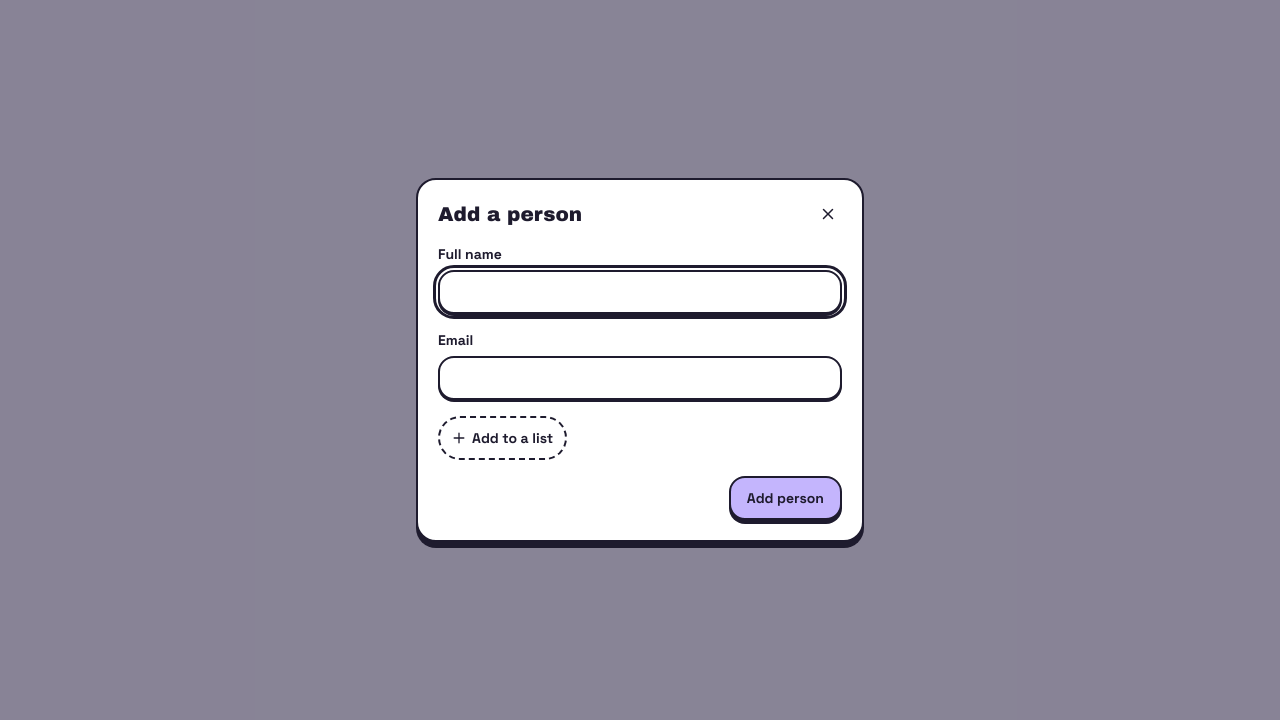
AddContactDialog › adds one person through the import route with their lists
Type "Amira" into the field labelled "Full name" at (640, 292), box x1=438 y1=270 x2=842 y2=314
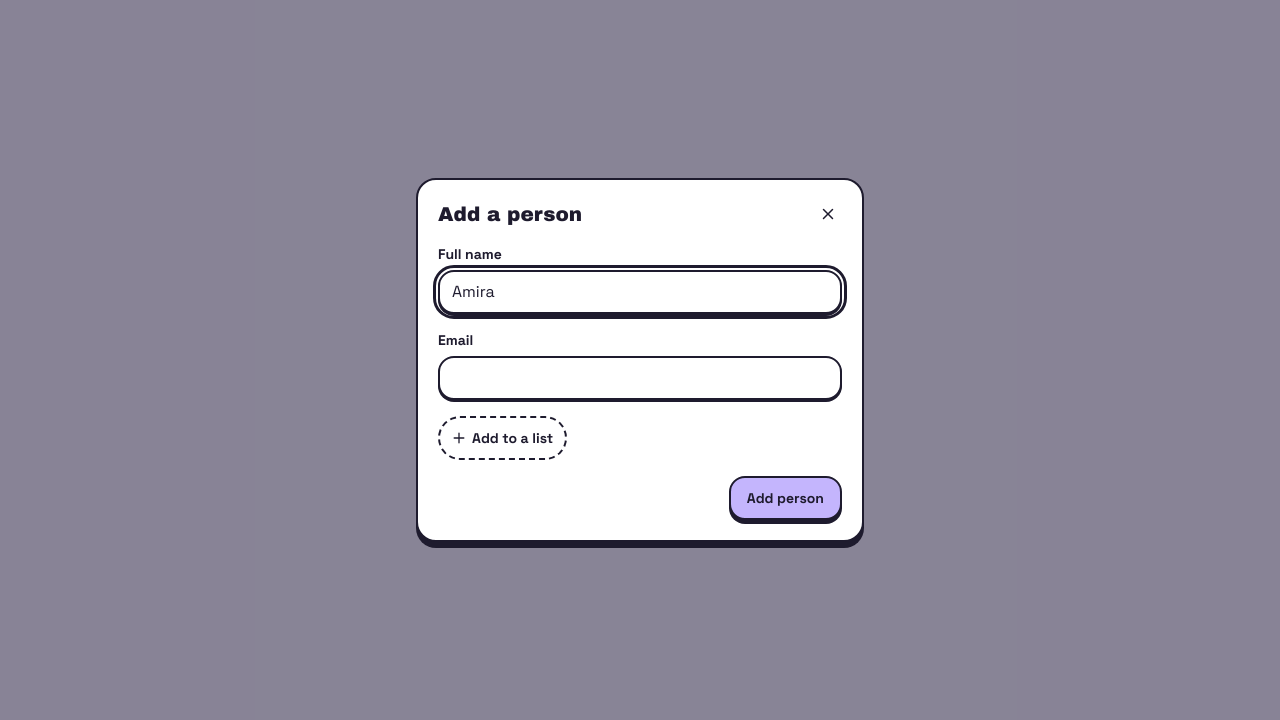
Type "Amira@Example.com" into the field labelled "Email" at (640, 378), box x1=438 y1=356 x2=842 y2=400
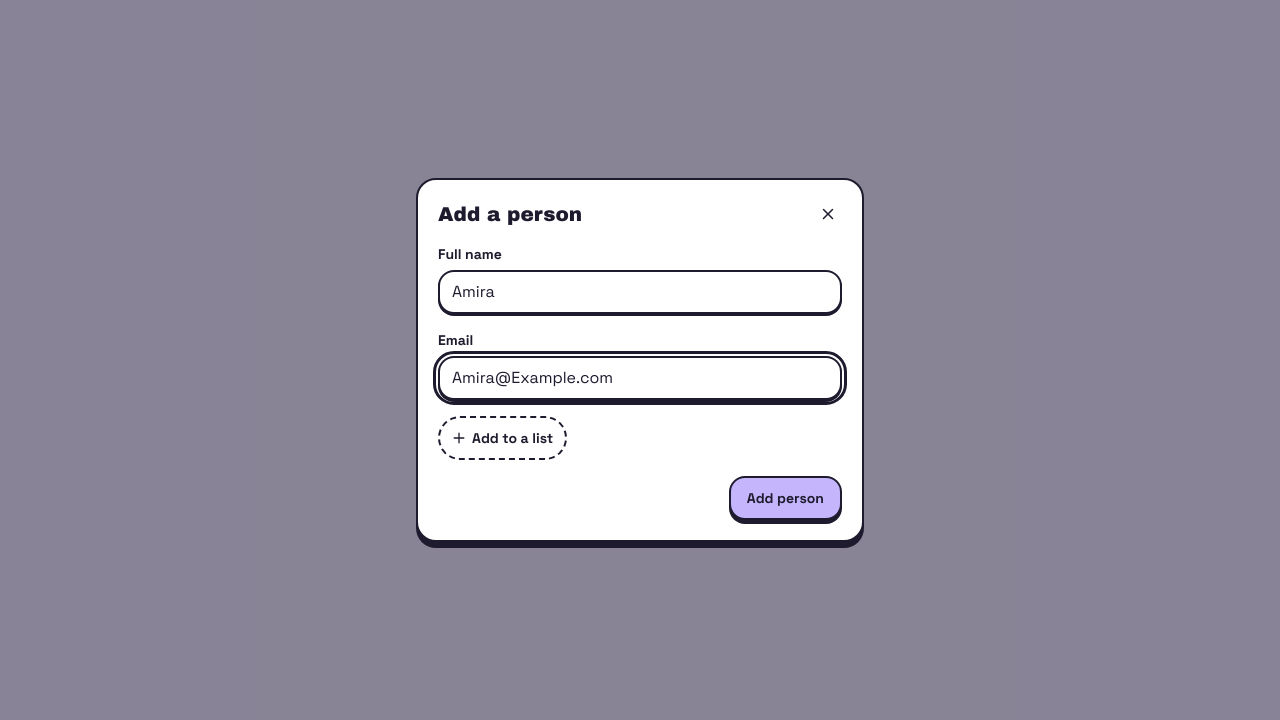
Click the button "Add to a list" at (503, 438), box x1=438 y1=416 x2=567 y2=460
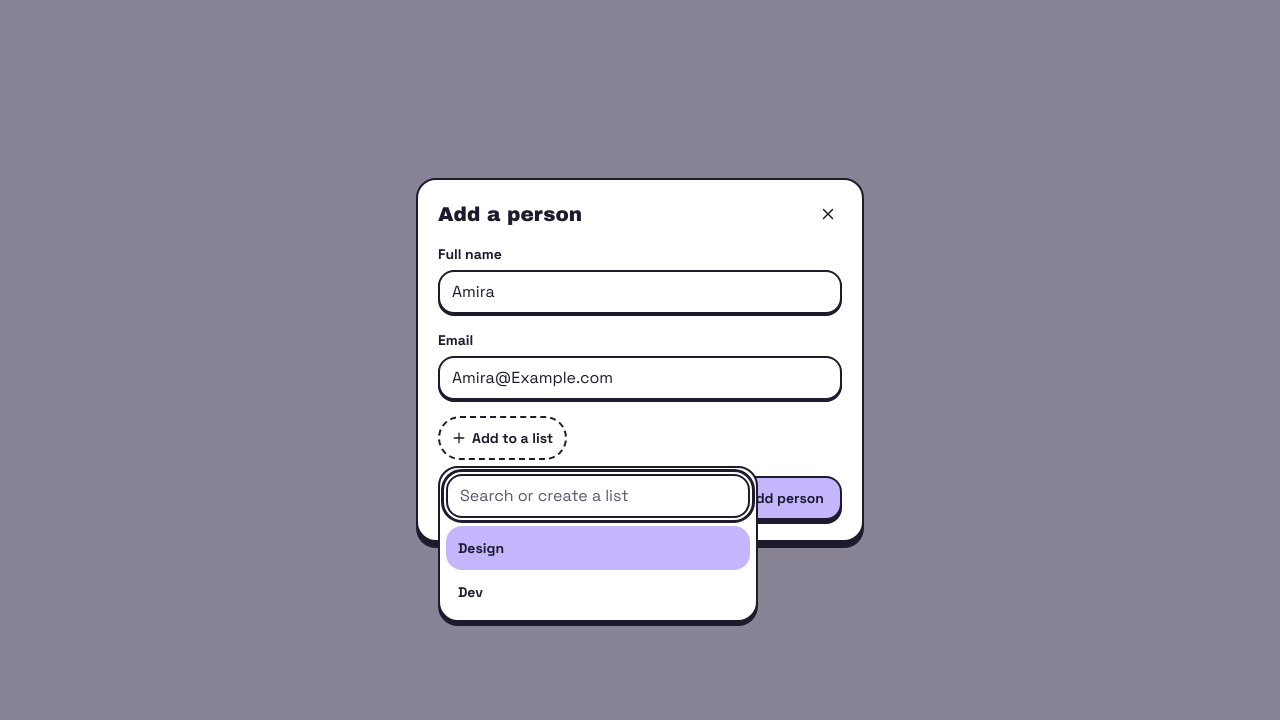
Click the option "Dev" at (470, 592), box x1=458 y1=583 x2=483 y2=601
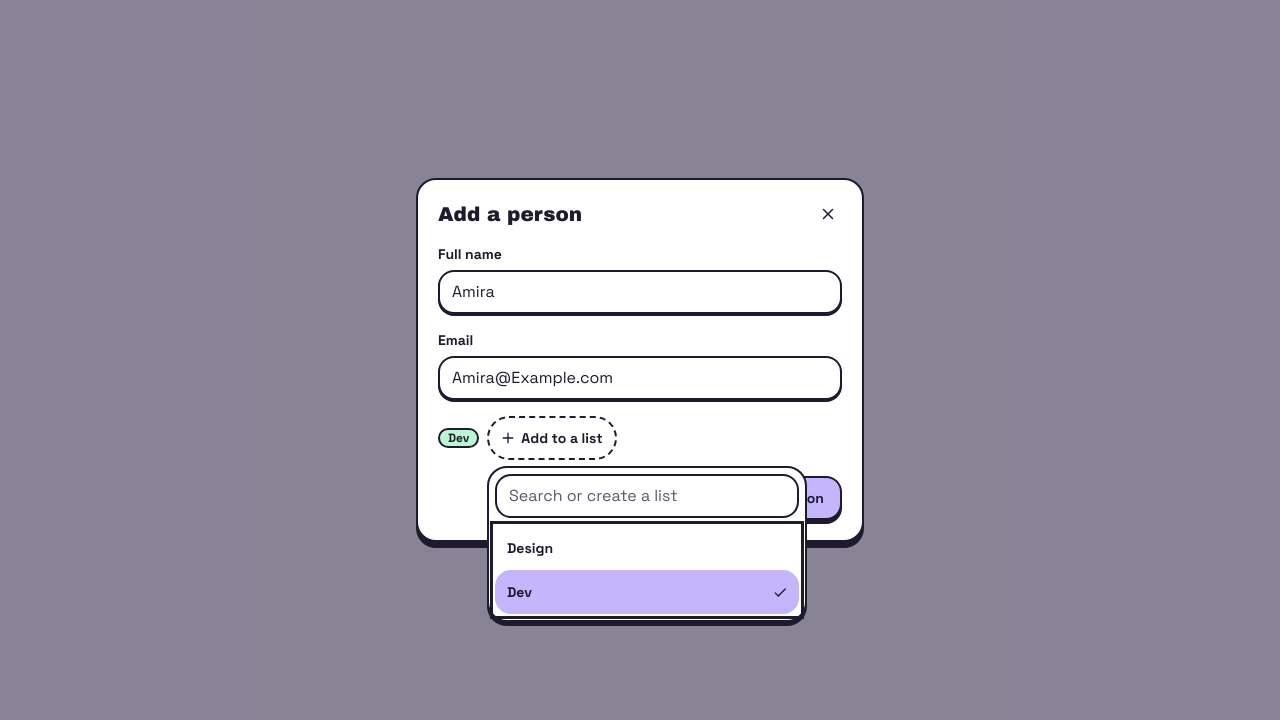
Press Escape
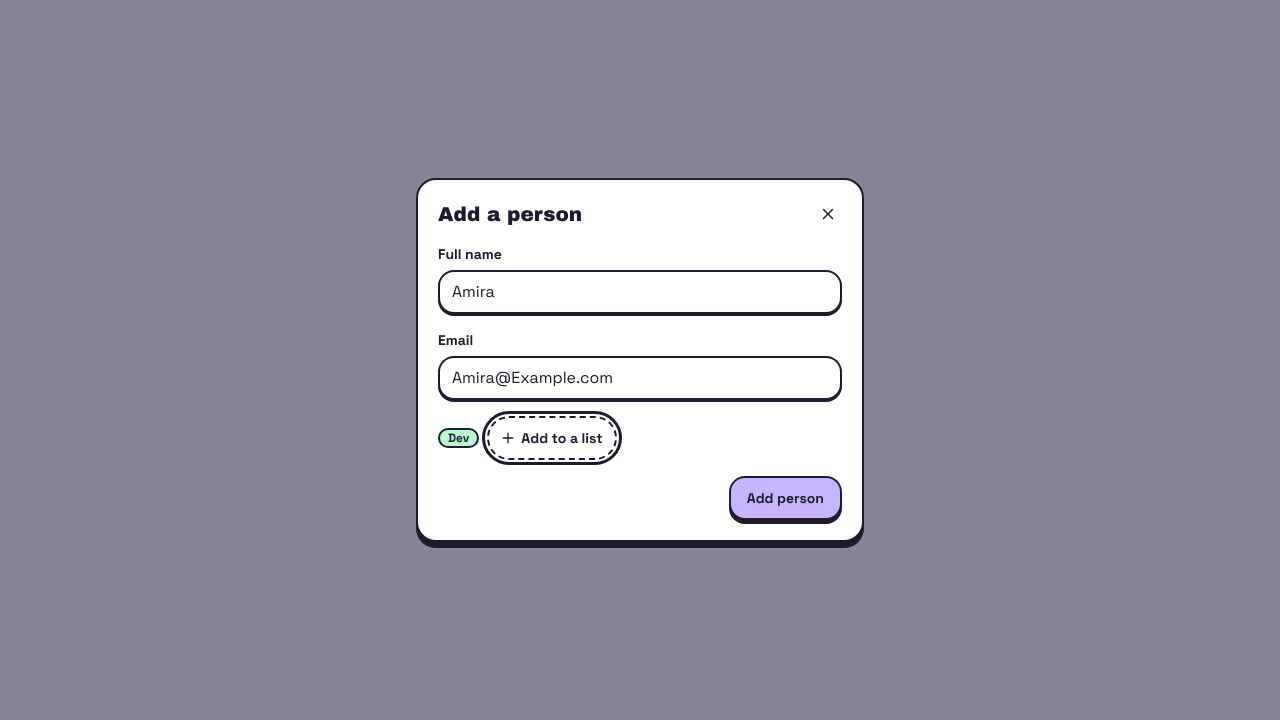
Click the button "Add person" at (785, 498), box x1=729 y1=476 x2=842 y2=520
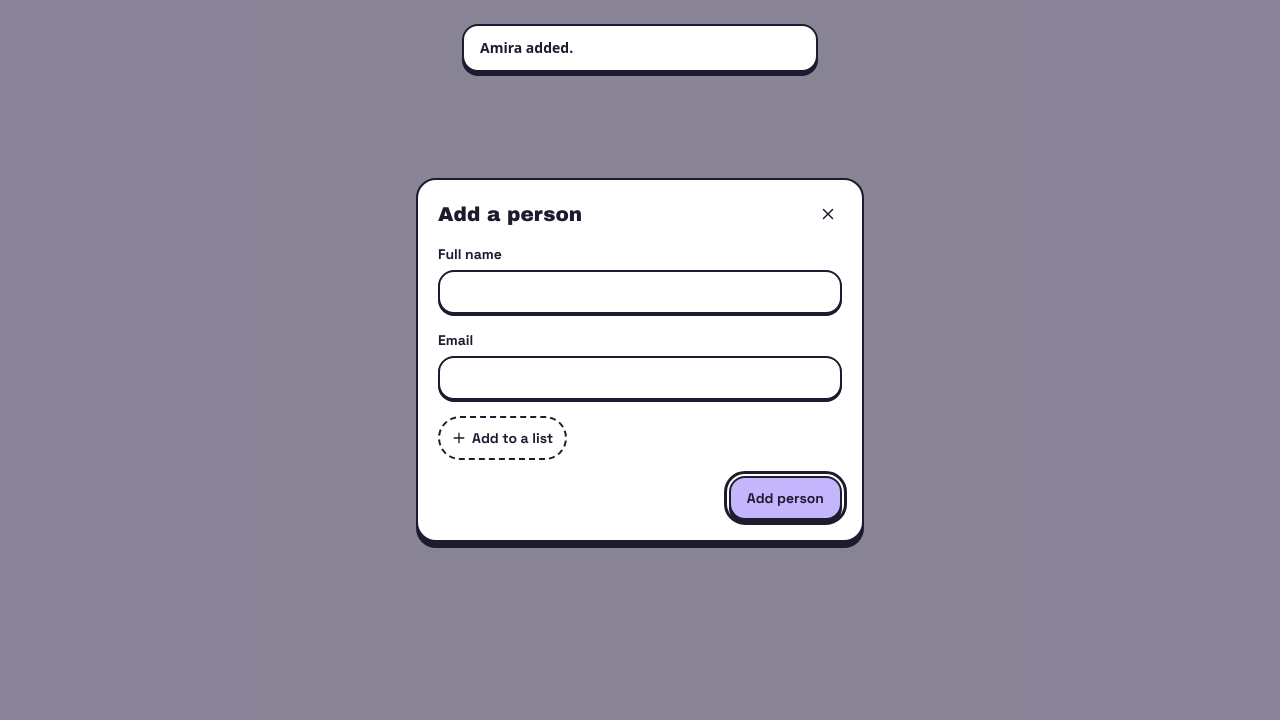
Now the text "Amira added." is shown, box x1=480 y1=38 x2=573 y2=58
